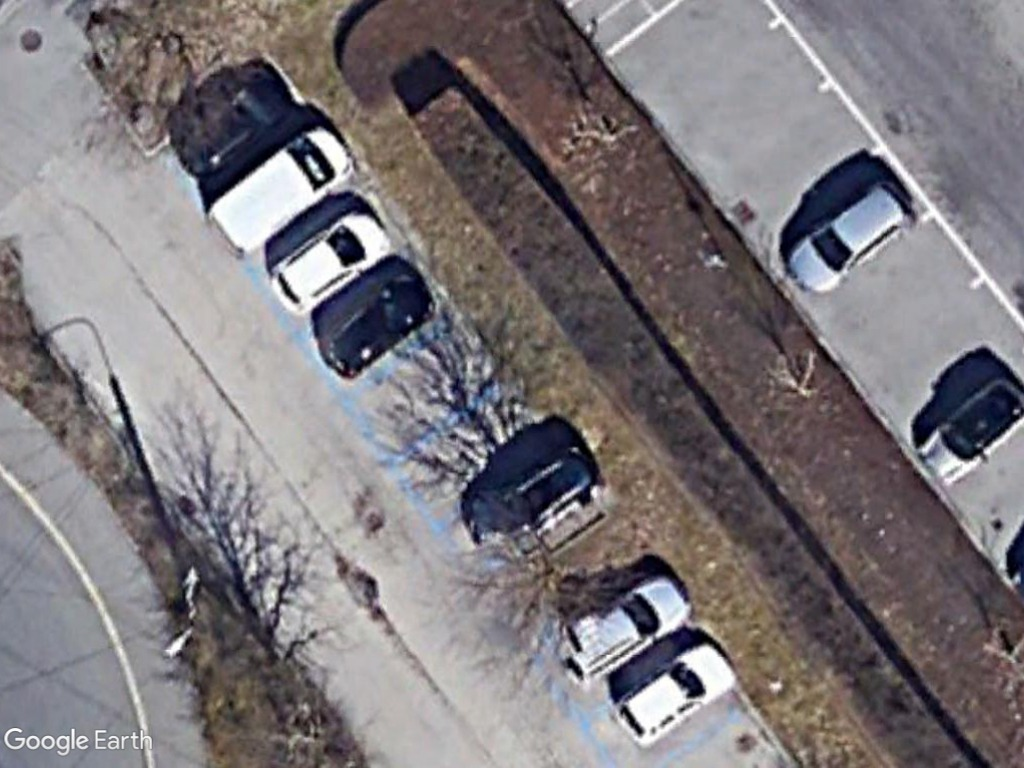car: (786, 178, 921, 295), (558, 573, 695, 683), (611, 646, 736, 747), (270, 211, 390, 312)
van: (205, 126, 356, 259)
